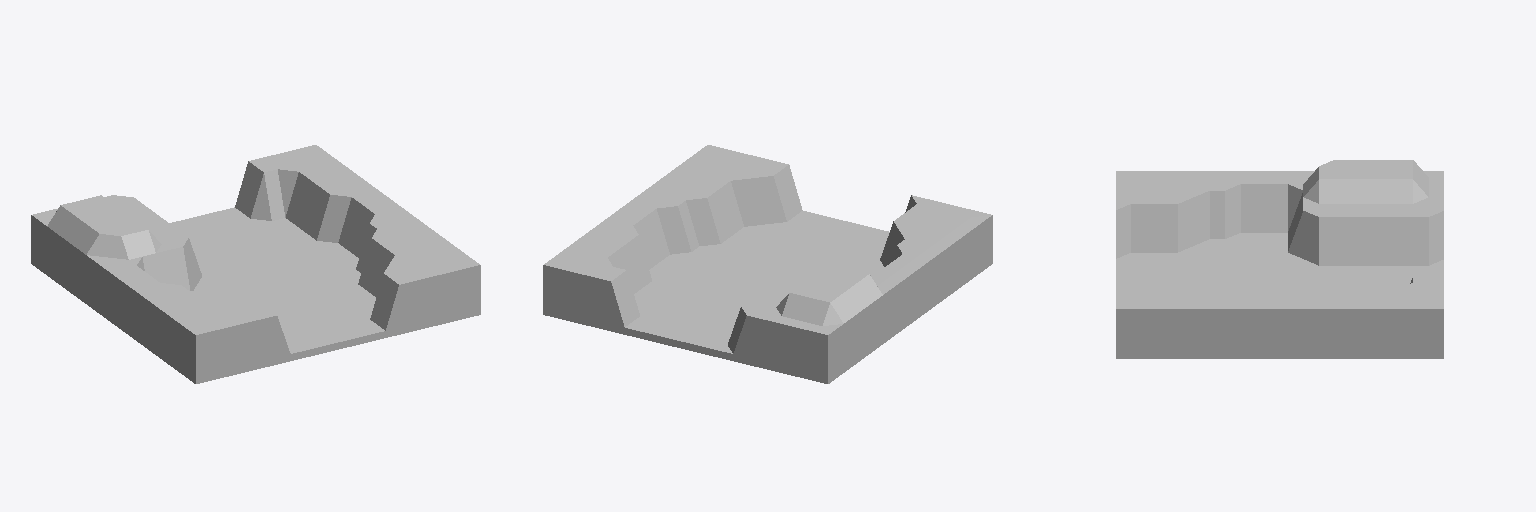
The model's file is ruins.obj.
3 renders of one model, left to right at view 1: azimuth 30°, elevation 25°; view 2: azimuth 150°, elevation 25°; view 3: azimuth 270°, elevation 25°, orthographic.
Visible parts, largest first — view 1: final_ground_Cube.011; view 2: final_ground_Cube.011; view 3: final_ground_Cube.011.
Boxes of the visible parts, box(x1,y1,x2,y2) form: final_ground_Cube.011: box(31, 145, 480, 383); final_ground_Cube.011: box(543, 145, 992, 383); final_ground_Cube.011: box(1116, 160, 1443, 358).
Size of the model in its own units: 20 by 4.5 by 20.